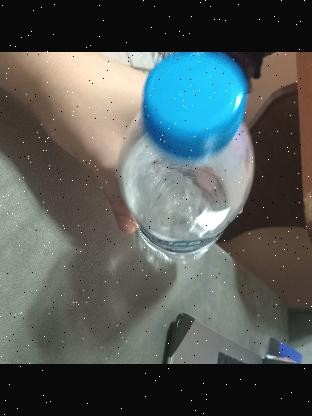Plastic Bottle: (106, 56, 260, 268)
